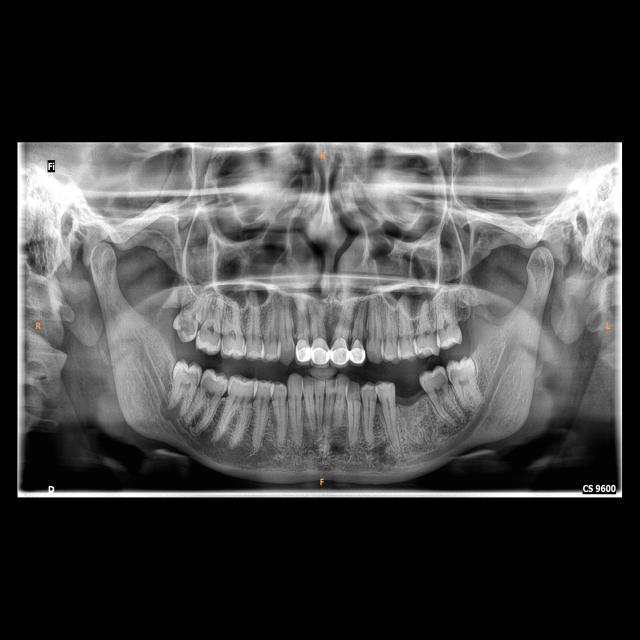dentin-curugu: (178, 317, 197, 336)
kaplama: (310, 338, 329, 364), (332, 339, 349, 364), (295, 334, 310, 361), (349, 338, 366, 361)
